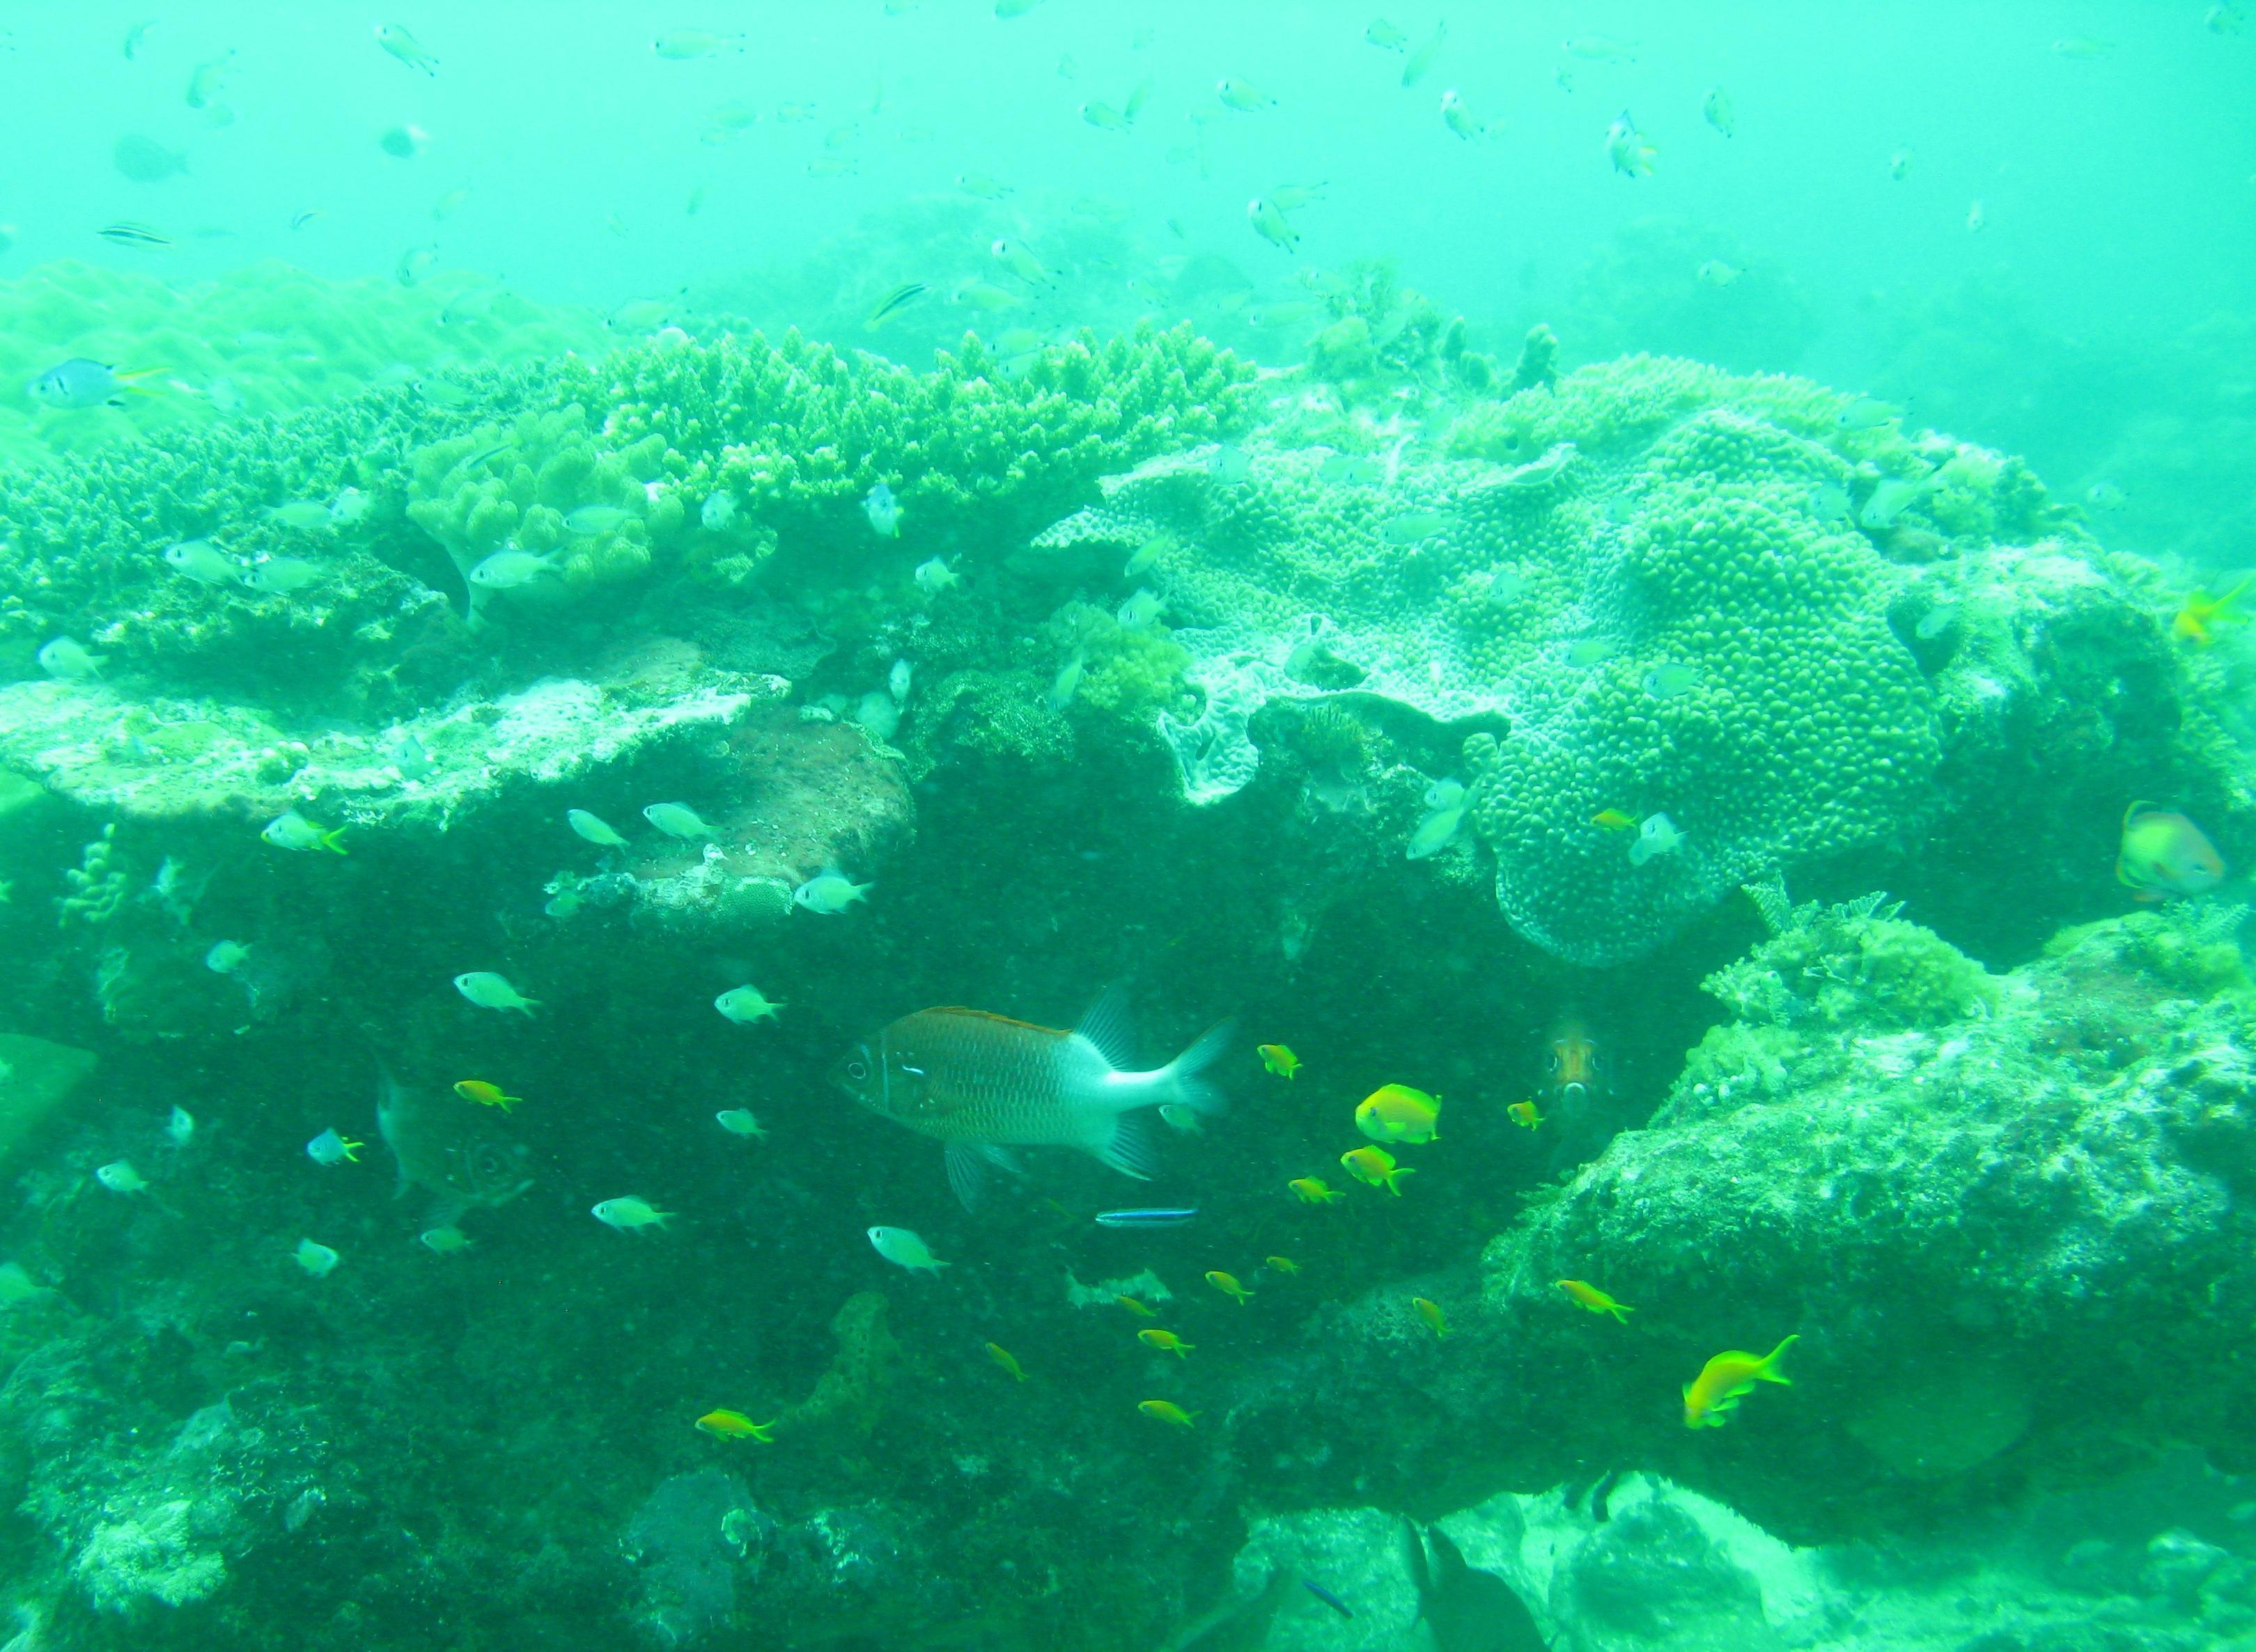Fish: (809, 976, 1245, 1212)
